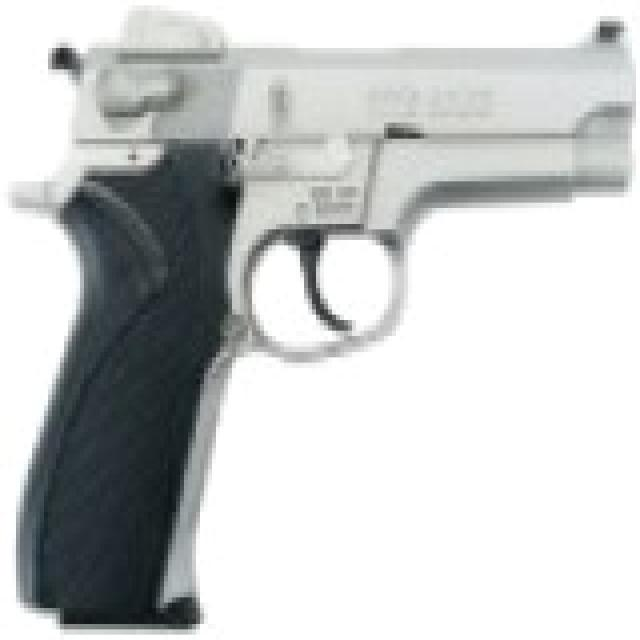pistol: (24, 11, 636, 624)
